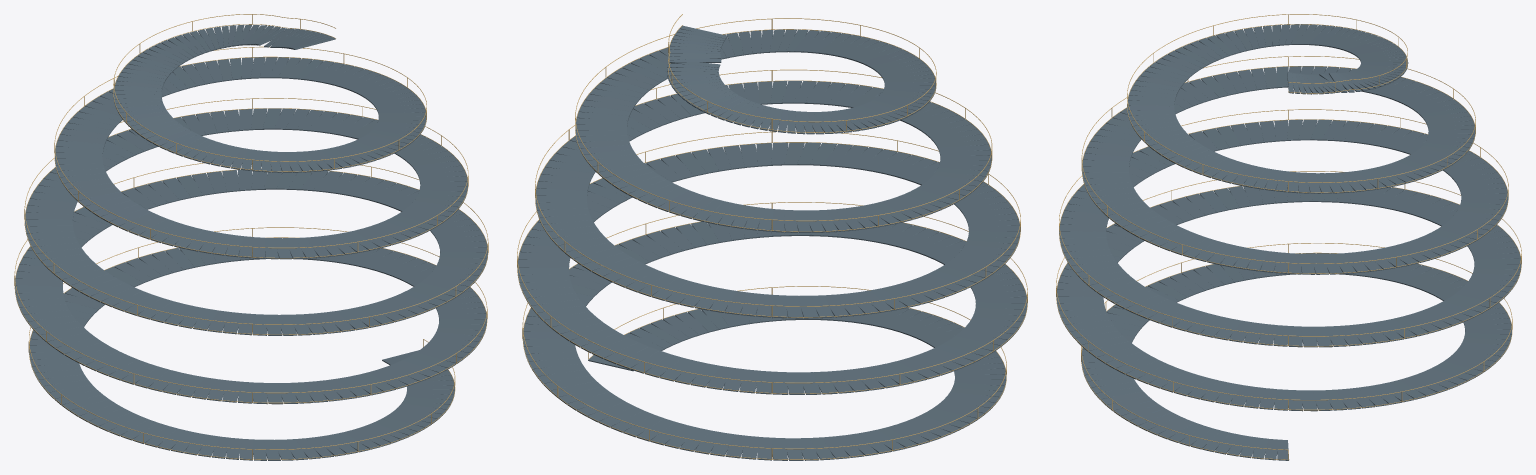
The model's file is VesperAccessV3.fbx.
3 views of the same model, side by side, from view 1: azimuth 30°, elevation 25°; view 2: azimuth 150°, elevation 25°; view 3: azimuth 270°, elevation 25° (orthographic). The views are drawn at different scales.
Visible parts, largest first — view 1: Access_1_Deck, Access_2_Deck, Access_3_Deck, Access_0_Deck, Access_4_Deck, Access_2_Trim, Access_3_Trim, Access_1_Trim, Access_0_Trim, Access_4_Trim; view 2: Access_2_Deck, Access_1_Deck, Access_3_Deck, Access_0_Deck, Access_4_Deck, Access_2_Trim, Access_1_Trim, Access_3_Trim, Access_0_Trim, Access_4_Trim; view 3: Access_2_Deck, Access_1_Deck, Access_3_Deck, Access_0_Deck, Access_4_Deck, Access_2_Trim, Access_1_Trim, Access_3_Trim, Access_0_Trim, Access_4_Trim.
Boxes of the visible parts, left/top/right/bottom form: Access_1_Deck: left=15, top=168, right=486, bottom=404; Access_2_Deck: left=25, top=108, right=487, bottom=335; Access_3_Deck: left=55, top=57, right=467, bottom=259; Access_0_Deck: left=29, top=237, right=454, bottom=460; Access_4_Deck: left=113, top=24, right=426, bottom=172; Access_2_Trim: left=24, top=98, right=488, bottom=334; Access_3_Trim: left=54, top=46, right=468, bottom=258; Access_1_Trim: left=14, top=163, right=487, bottom=403; Access_0_Trim: left=28, top=227, right=455, bottom=459; Access_4_Trim: left=113, top=14, right=426, bottom=171; Access_2_Deck: left=535, top=140, right=1020, bottom=318; Access_1_Deck: left=517, top=218, right=1027, bottom=394; Access_3_Deck: left=570, top=78, right=991, bottom=232; Access_0_Deck: left=523, top=284, right=1006, bottom=460; Access_4_Deck: left=607, top=25, right=935, bottom=134; Access_2_Trim: left=535, top=129, right=1020, bottom=317; Access_1_Trim: left=517, top=202, right=1027, bottom=393; Access_3_Trim: left=568, top=67, right=992, bottom=231; Access_0_Trim: left=522, top=286, right=1006, bottom=459; Access_4_Trim: left=605, top=14, right=936, bottom=132; Access_2_Deck: left=1059, top=119, right=1508, bottom=346; Access_1_Deck: left=1056, top=185, right=1521, bottom=410; Access_3_Deck: left=1082, top=66, right=1475, bottom=273; Access_0_Deck: left=1081, top=253, right=1511, bottom=460; Access_4_Deck: left=1127, top=24, right=1408, bottom=192; Access_2_Trim: left=1059, top=109, right=1508, bottom=345; Access_1_Trim: left=1056, top=171, right=1521, bottom=409; Access_3_Trim: left=1081, top=56, right=1475, bottom=273; Access_0_Trim: left=1081, top=243, right=1512, bottom=460; Access_4_Trim: left=1127, top=14, right=1407, bottom=191.
Bounding box in the file's own units: 11856 × 9472 × 11857.
